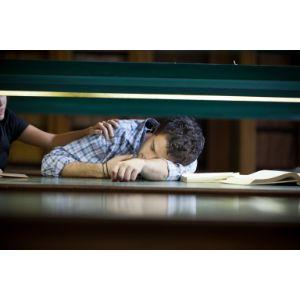sleep: (39, 116, 209, 181), (138, 126, 180, 177)
